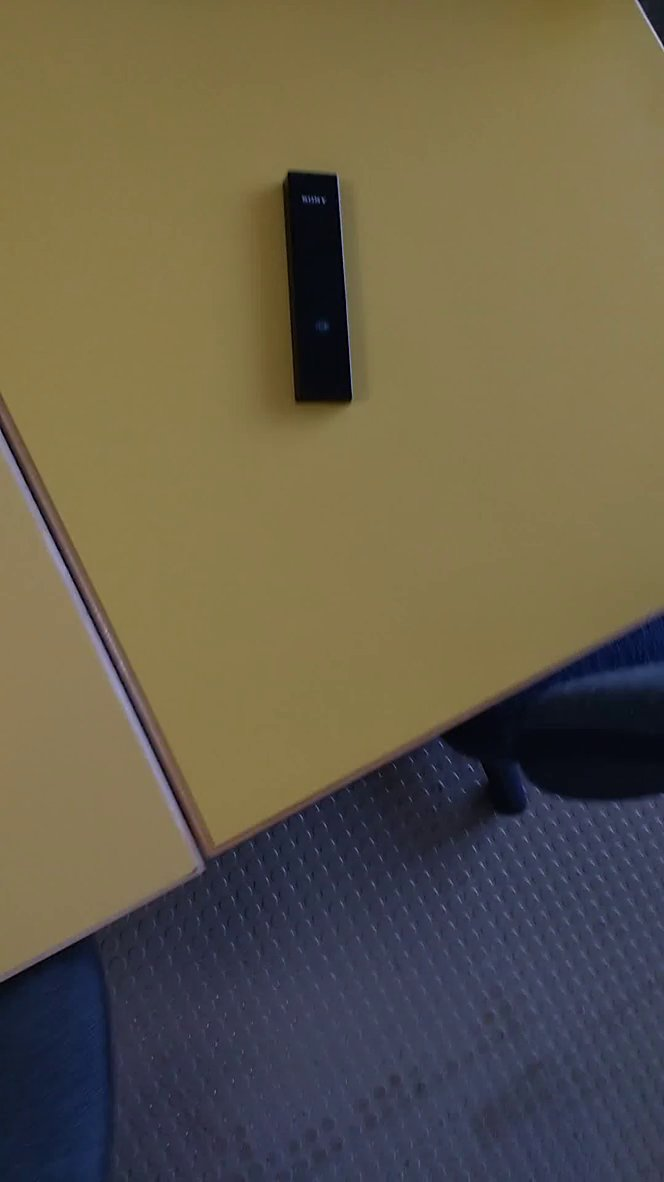remote: (262, 157, 382, 420)
